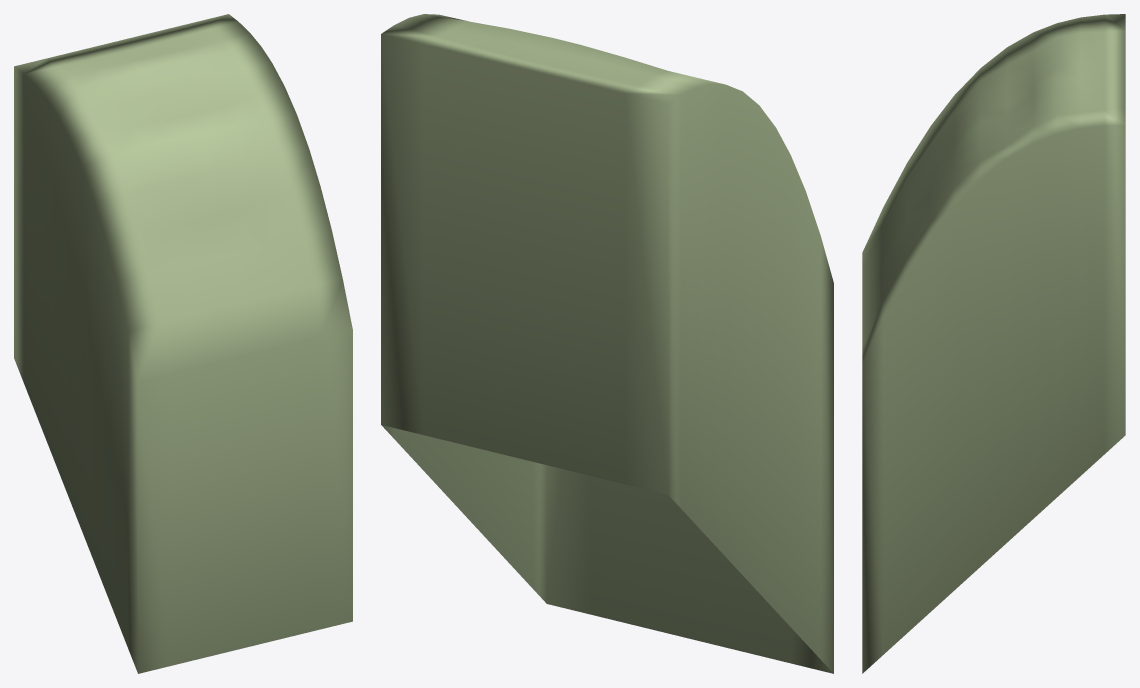
Rendered from ground-ramp-32.glb.
3 views of the same model, side by side, from view 1: azimuth 30°, elevation 25°; view 2: azimuth 150°, elevation 25°; view 3: azimuth 270°, elevation 25° (orthographic). The views are drawn at different scales.
Visible parts, largest first — view 1: ground-ramp-32; view 2: ground-ramp-32; view 3: ground-ramp-32.
Boxes of the visible parts, x1,y1,x2,y2 form: ground-ramp-32: (14, 14, 352, 673); ground-ramp-32: (381, 14, 833, 673); ground-ramp-32: (862, 14, 1125, 673).
Bounding box in the file's own units: 1 × 2.3 × 1.
